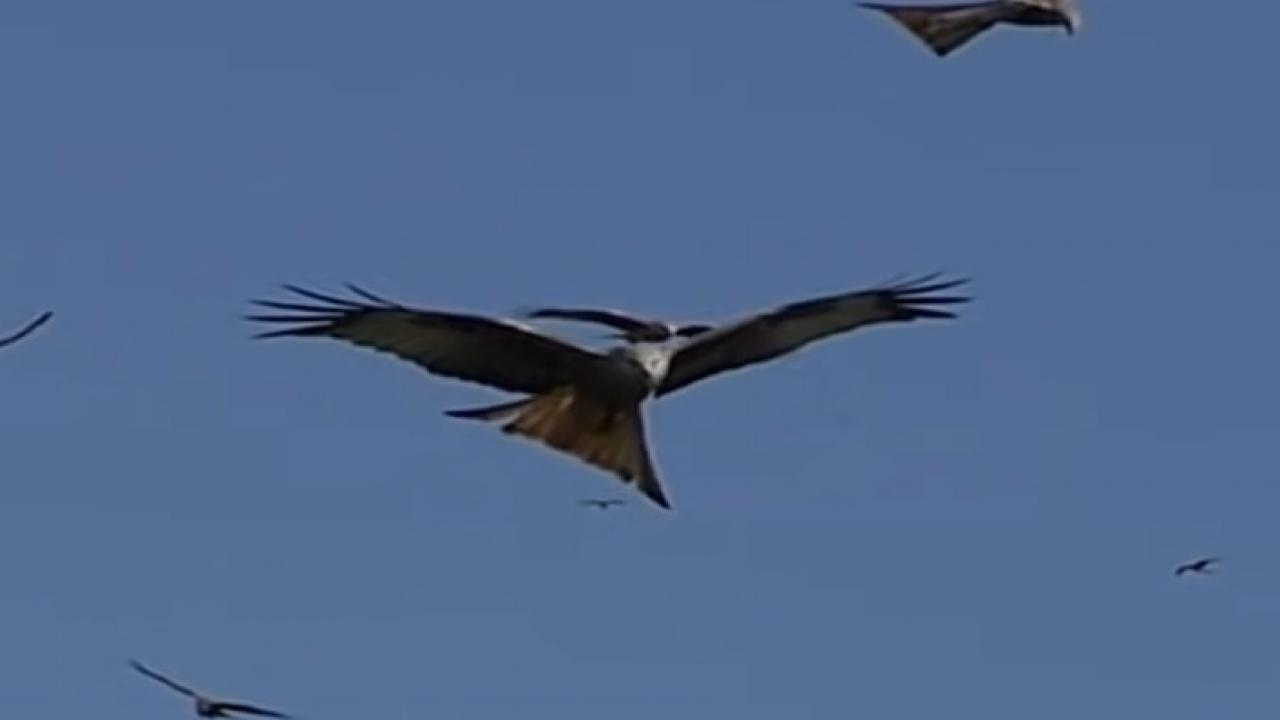Bird: (232, 272, 985, 518), (116, 650, 296, 720), (562, 484, 636, 521), (1166, 551, 1234, 586)
